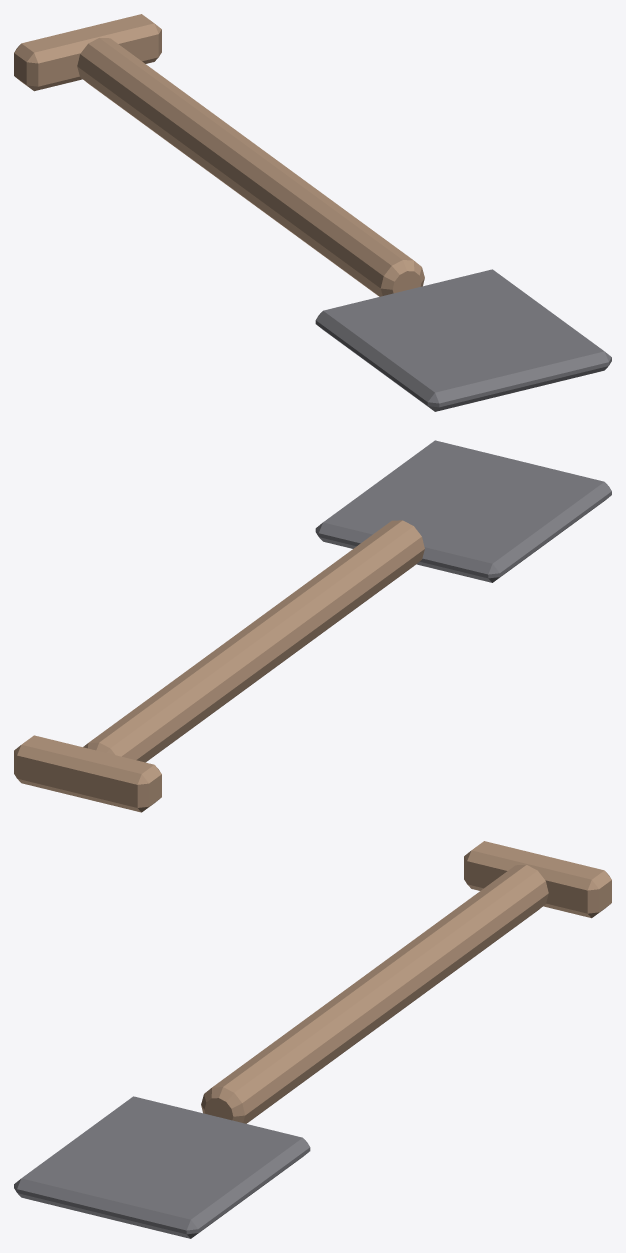
The model's file is SM_Shovel.fbx.
3 renders of one model, top to bottom at view 1: azimuth 30°, elevation 25°; view 2: azimuth 150°, elevation 25°; view 3: azimuth 330°, elevation 25°, orthographic.
Visible parts, largest first — view 1: Shovel; view 2: Shovel; view 3: Shovel.
Boxes of the visible parts, <box> form: Shovel: <box>14,14,611,411</box>; Shovel: <box>14,440,611,812</box>; Shovel: <box>14,841,611,1238</box>.
Bounding box in the file's own units: 15 × 3.6 × 63.
